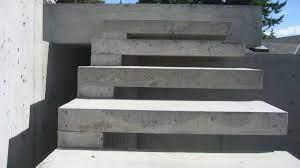Bench: (43, 17, 298, 165)
